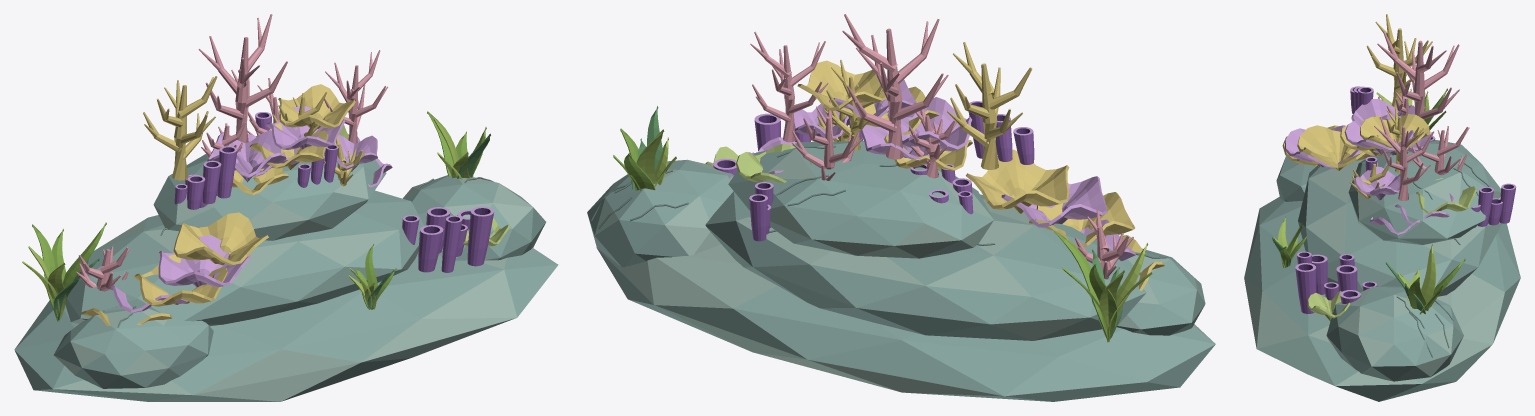
The model's file is Reef.fbx.
3 views of the same model, side by side, from view 1: azimuth 30°, elevation 25°; view 2: azimuth 150°, elevation 25°; view 3: azimuth 270°, elevation 25° (orthographic). The views are drawn at different scales.
Parts seen in each view (by area): view 1: SM_Reef; view 2: SM_Reef; view 3: SM_Reef.
Boxes of the visible parts, <box> form: SM_Reef: <box>14,14,558,401</box>; SM_Reef: <box>587,14,1215,401</box>; SM_Reef: <box>1244,14,1520,401</box>.
Bounding box in the file's own units: 4.58 × 2.5 × 2.39.
